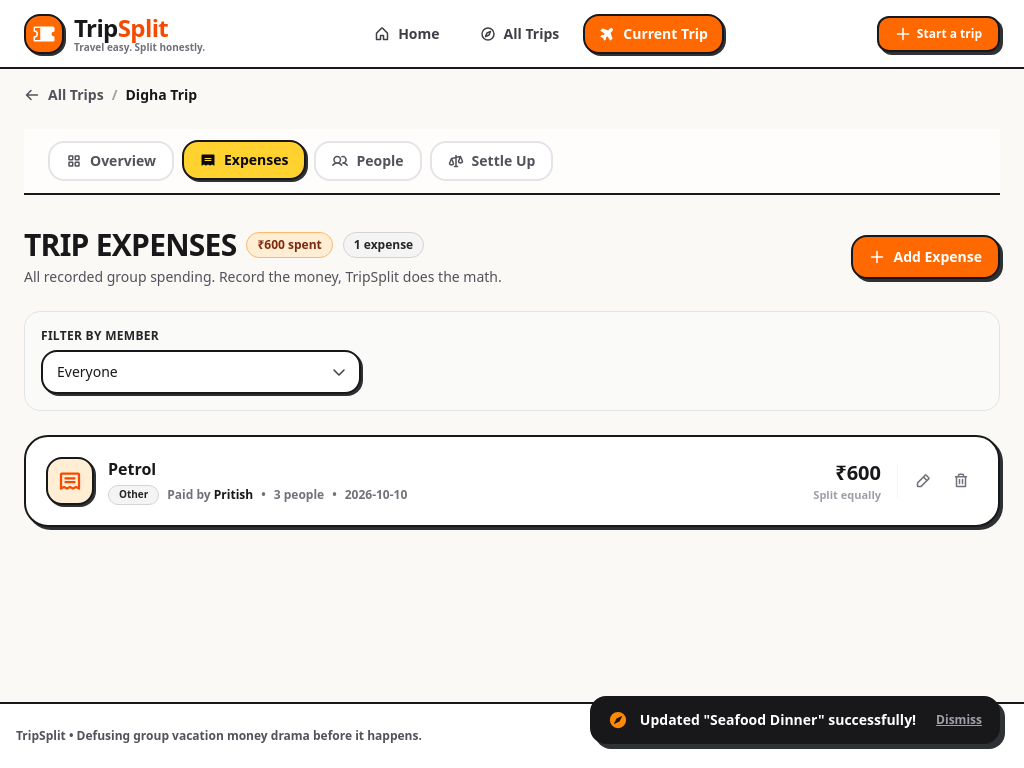
Test case: Expense Management UI Flow › deletes an expense after confirmation modal
This screenshot has width=1024, height=768.
Expected: the heading "Petrol" is shown, [108,458,156,480]
# Click delete
Click the button named "Delete Petrol" at (961, 481), box [944,464,978,498]
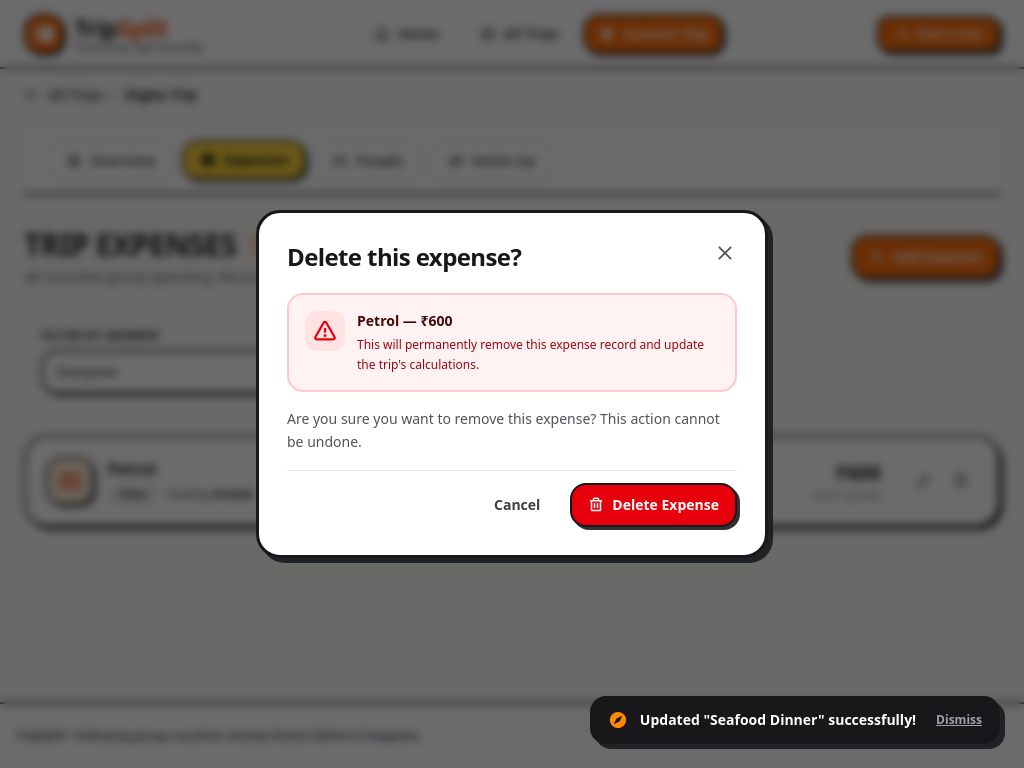
Now the heading "Delete this expense?" is shown, box [287,241,521,273]
Now the text "Petrol — ₹600" is shown, box [357,311,452,330]
# Confirm deletion
Click the button "Delete Expense" at (654, 505), box [570,483,737,527]
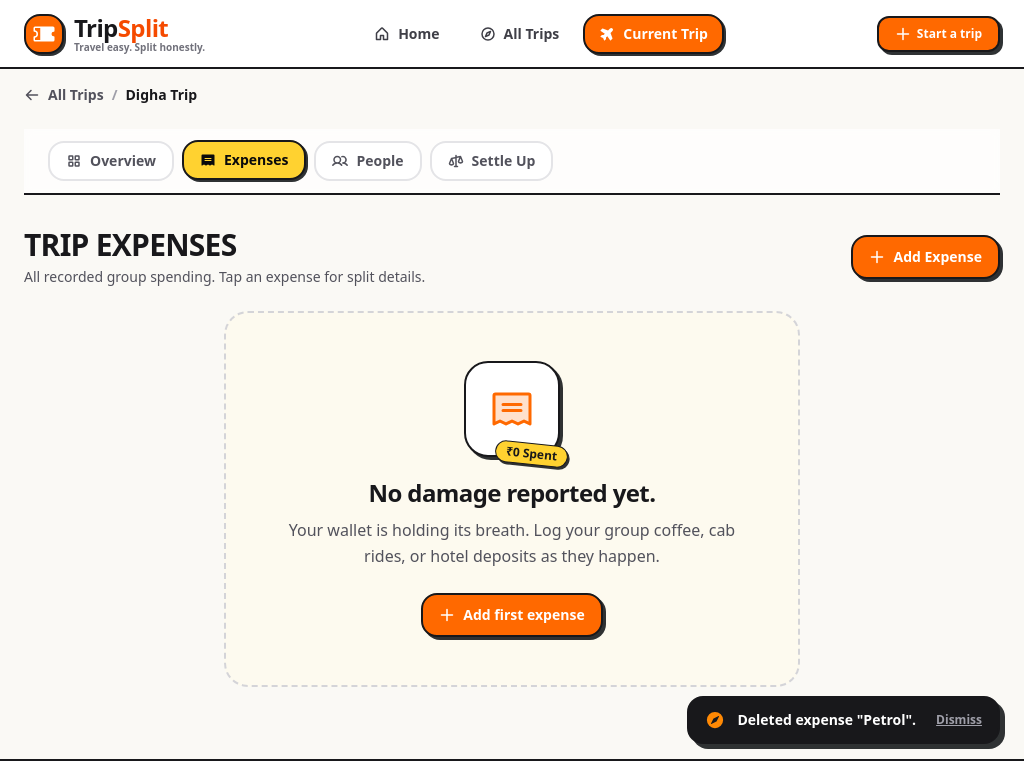
Now the heading "No damage reported yet." is shown, box [369,477,656,509]
